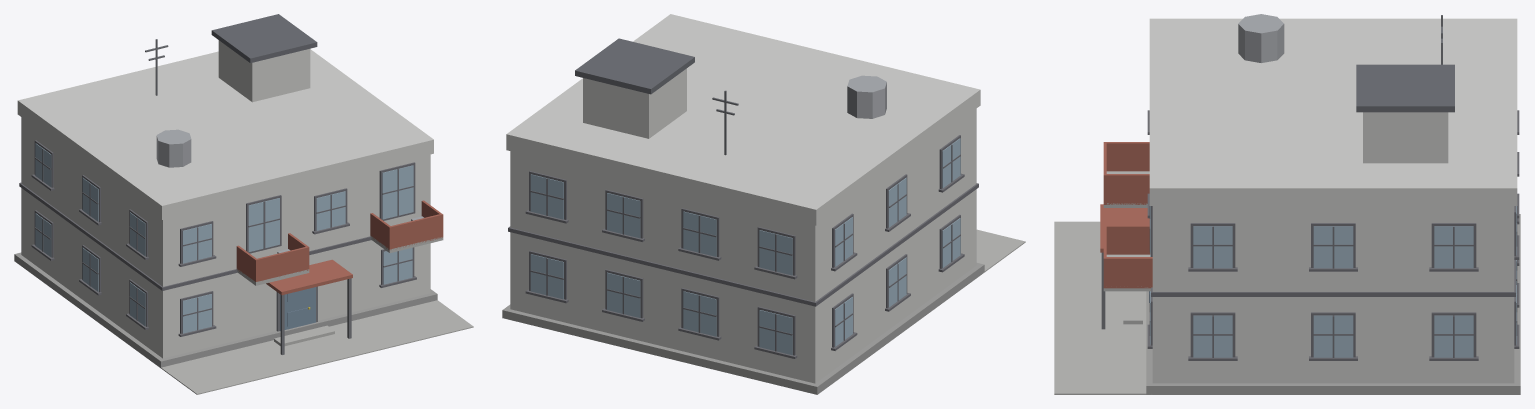
The model's file is Apartman_01.glb.
The picture shows the model from 3 angles, left to right: view 1: azimuth 30°, elevation 25°; view 2: azimuth 150°, elevation 25°; view 3: azimuth 270°, elevation 25°; orthographic projection. The views are drawn at different scales.
Parts seen in each view (by area): view 1: Apartman_01; view 2: Apartman_01; view 3: Apartman_01.
Boxes of the visible parts, box(x1,y1,x2,y2) form: Apartman_01: box(14, 14, 473, 394); Apartman_01: box(502, 14, 1025, 394); Apartman_01: box(1054, 14, 1520, 394).
Bounding box in the file's own units: 12.4 × 9.3 × 14.2.
